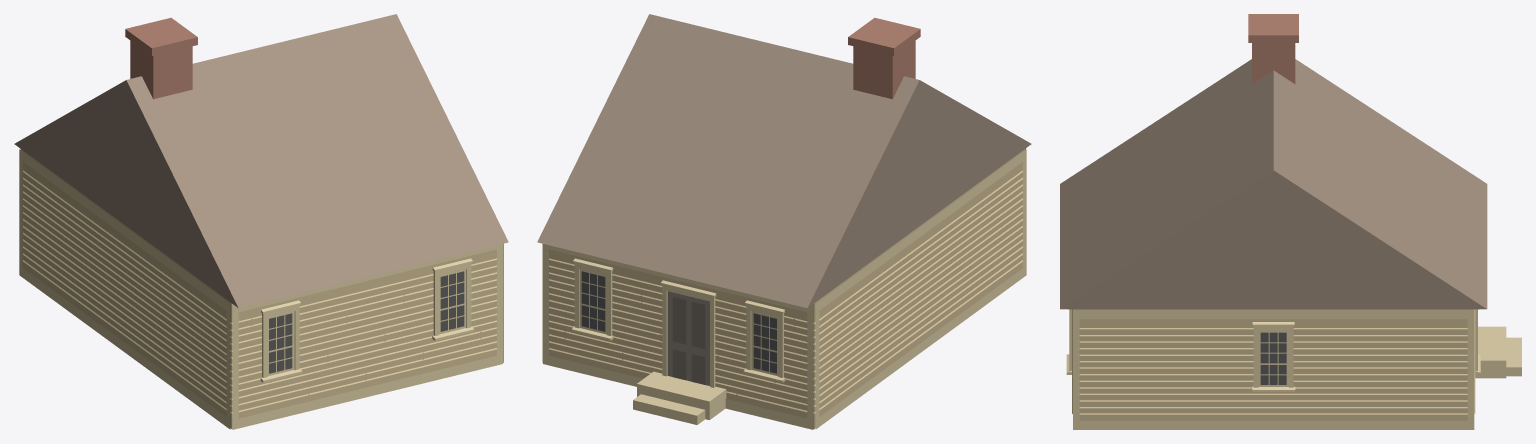
Rendered from recon_1835_south_d4_025__inferred_1835.glb.
The picture shows the model from 3 angles, left to right: view 1: azimuth 30°, elevation 25°; view 2: azimuth 150°, elevation 25°; view 3: azimuth 270°, elevation 25°; orthographic projection. The views are drawn at different scales.
Visible parts, largest first — view 1: recon_1835_south_d4_025__inferred_1835; view 2: recon_1835_south_d4_025__inferred_1835; view 3: recon_1835_south_d4_025__inferred_1835.
Part boxes in pixels (left/top/right/bottom): recon_1835_south_d4_025__inferred_1835: left=14, top=14, right=508, bottom=429; recon_1835_south_d4_025__inferred_1835: left=537, top=14, right=1031, bottom=429; recon_1835_south_d4_025__inferred_1835: left=1060, top=14, right=1521, bottom=429.
Size of the model in its own units: 5.91 by 6.32 by 8.95.
